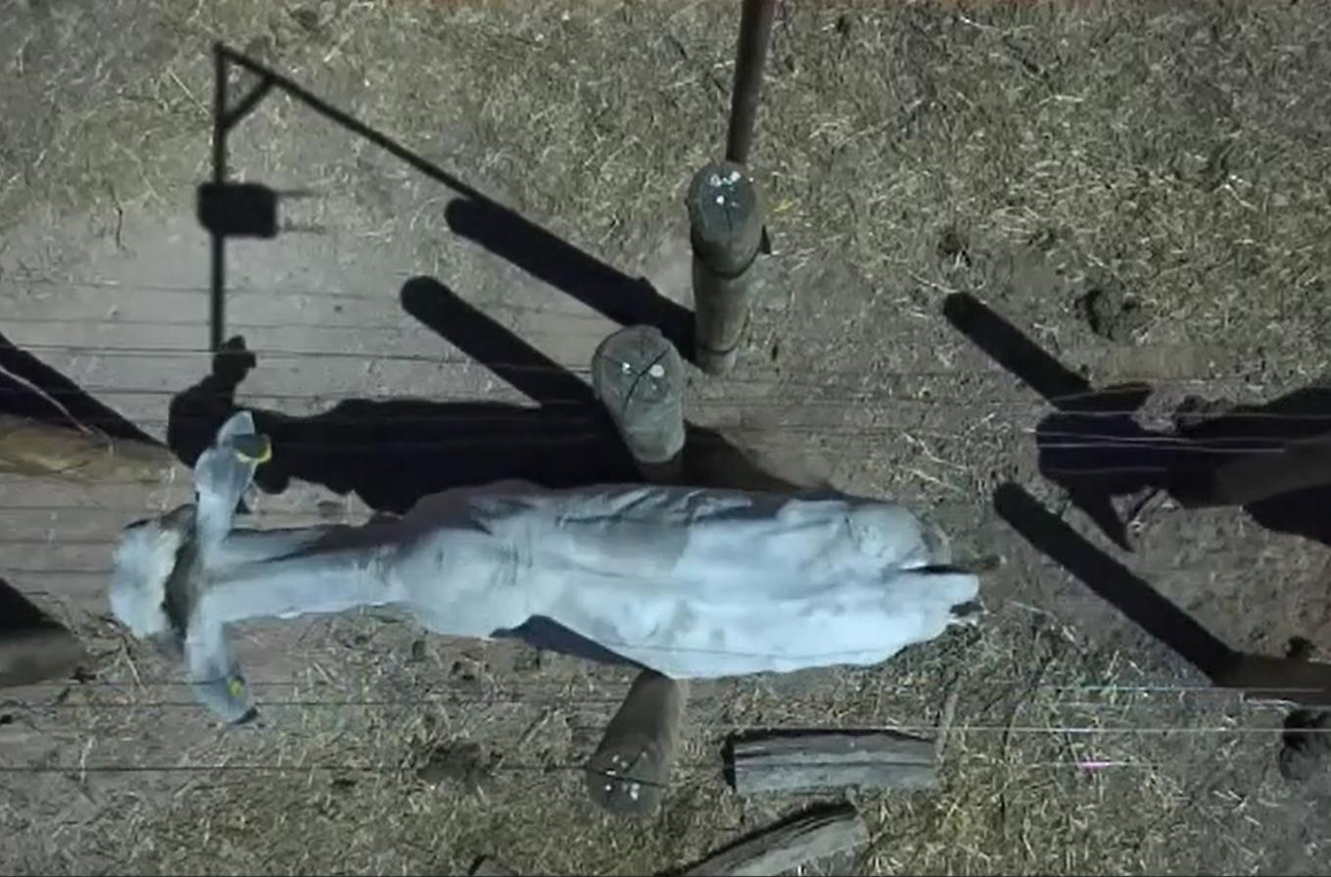cattle: (96, 398, 994, 736)
